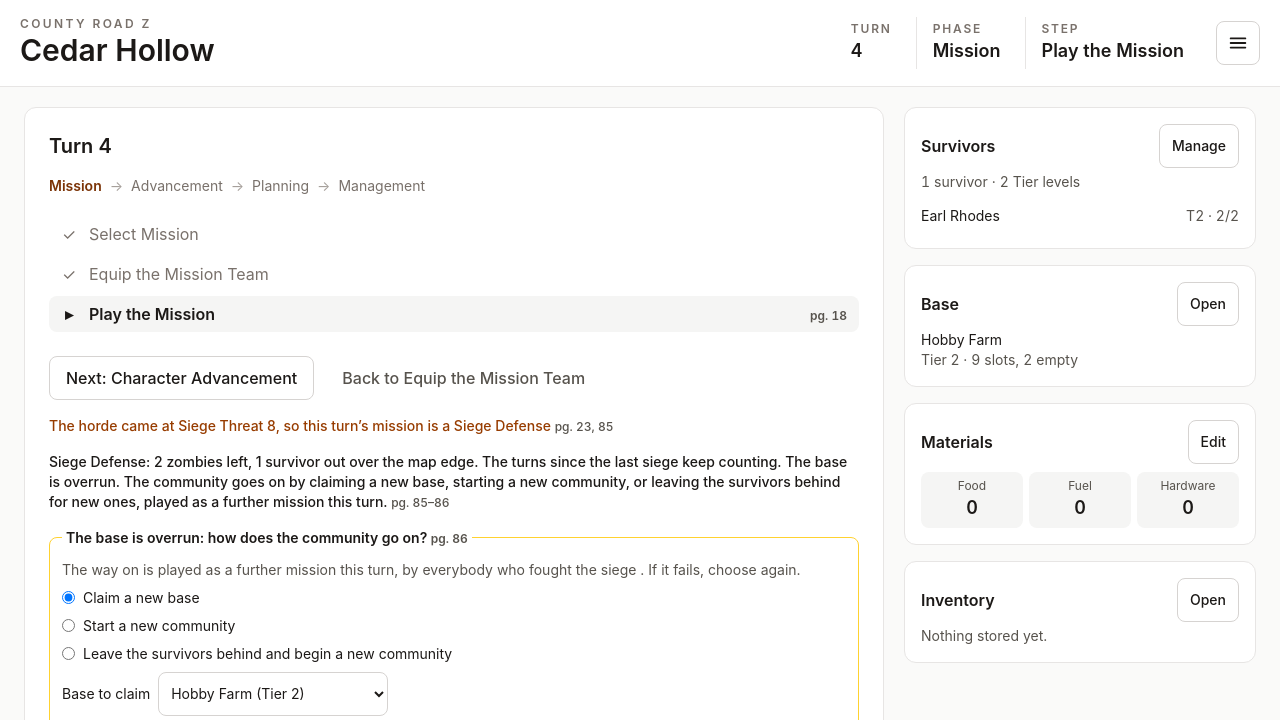
Scenario: the overrun base › asks again when the way on fails (R28)
Click the radio button labelled "Start a new community" at (68, 626), box [62,619,75,632]
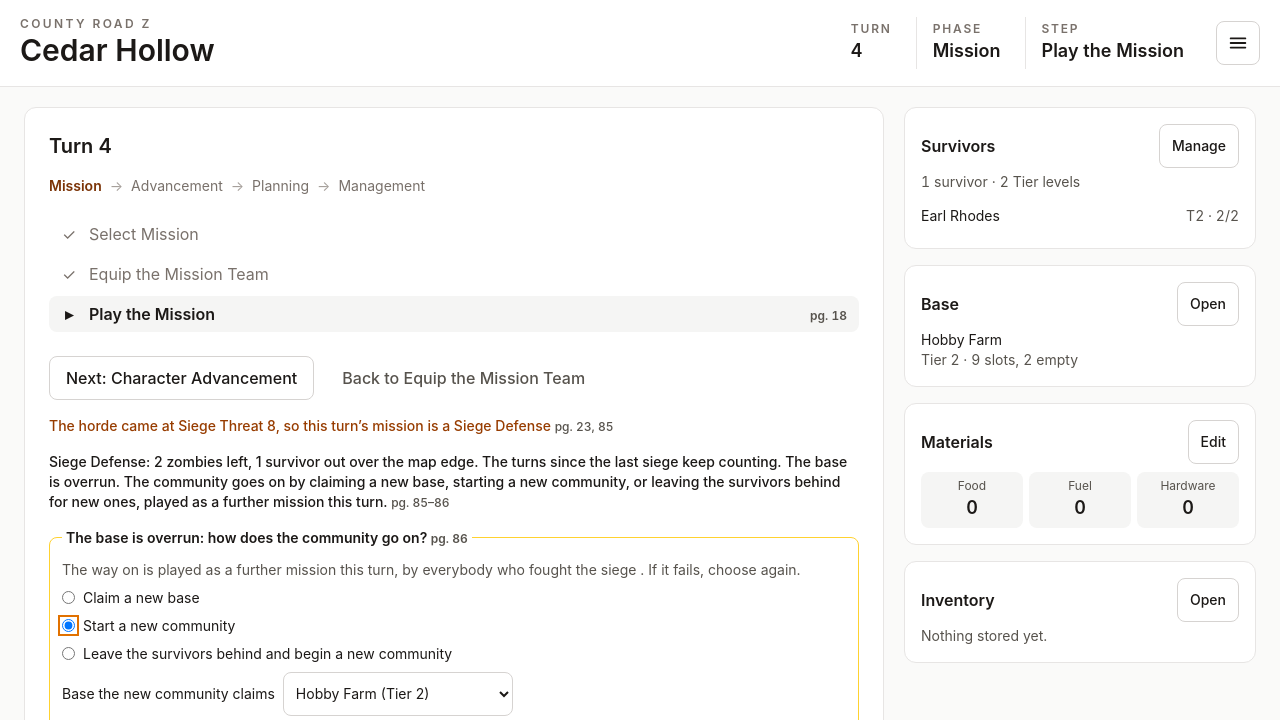
Select "Summer Camp (Tier 1)" in the dropdown labelled "Base the new community claims" at (398, 694), box [283,672,513,716]
(page scrolled)
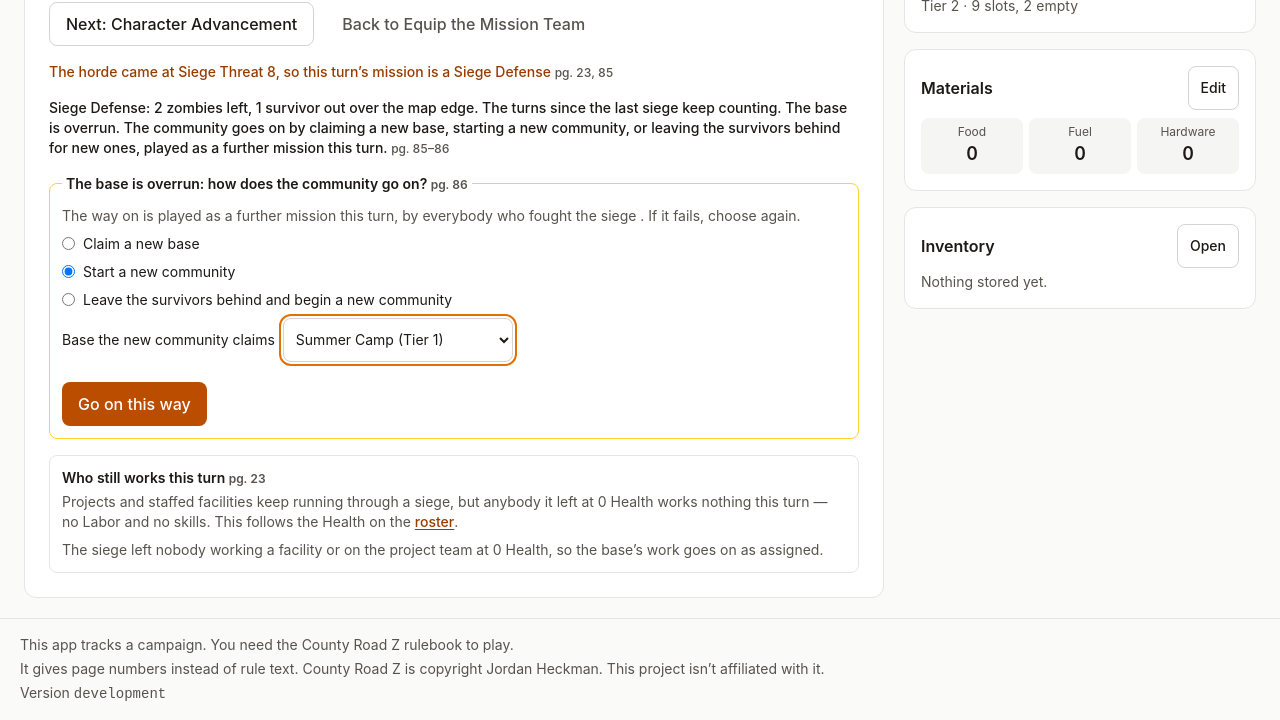
Click the button "Go on this way" at (134, 404), box [62,382,207,426]
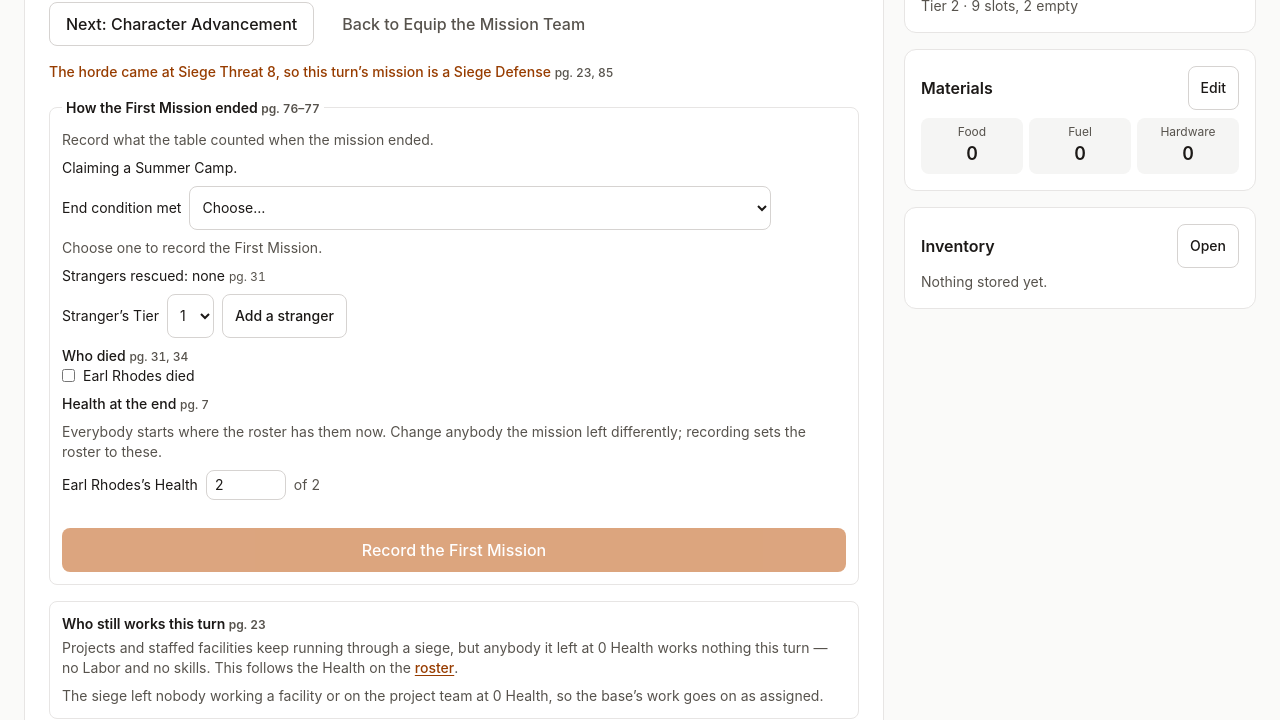
Select "4 — No survivors left in the mission area (failed)" in the dropdown labelled "End condition met" at (480, 208), box [189,186,771,230]
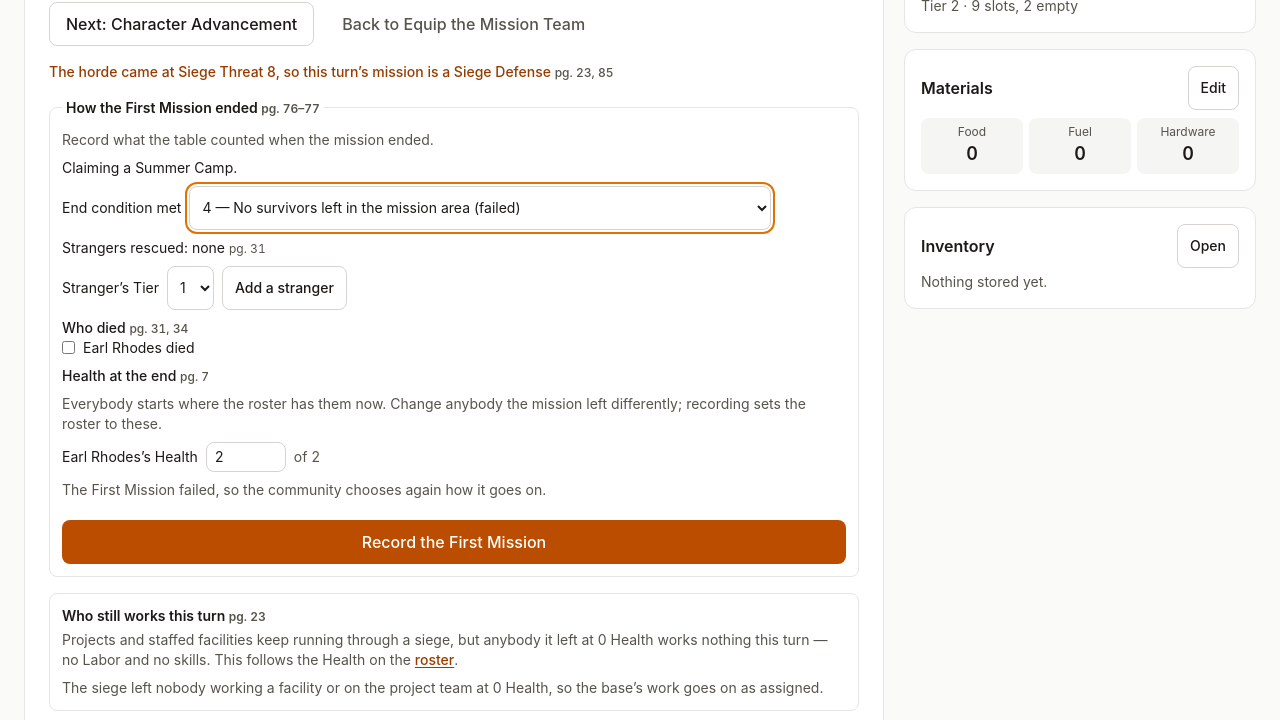
Click the button "Record the First Mission" at (454, 542), box [62,520,846,564]
(page scrolled)
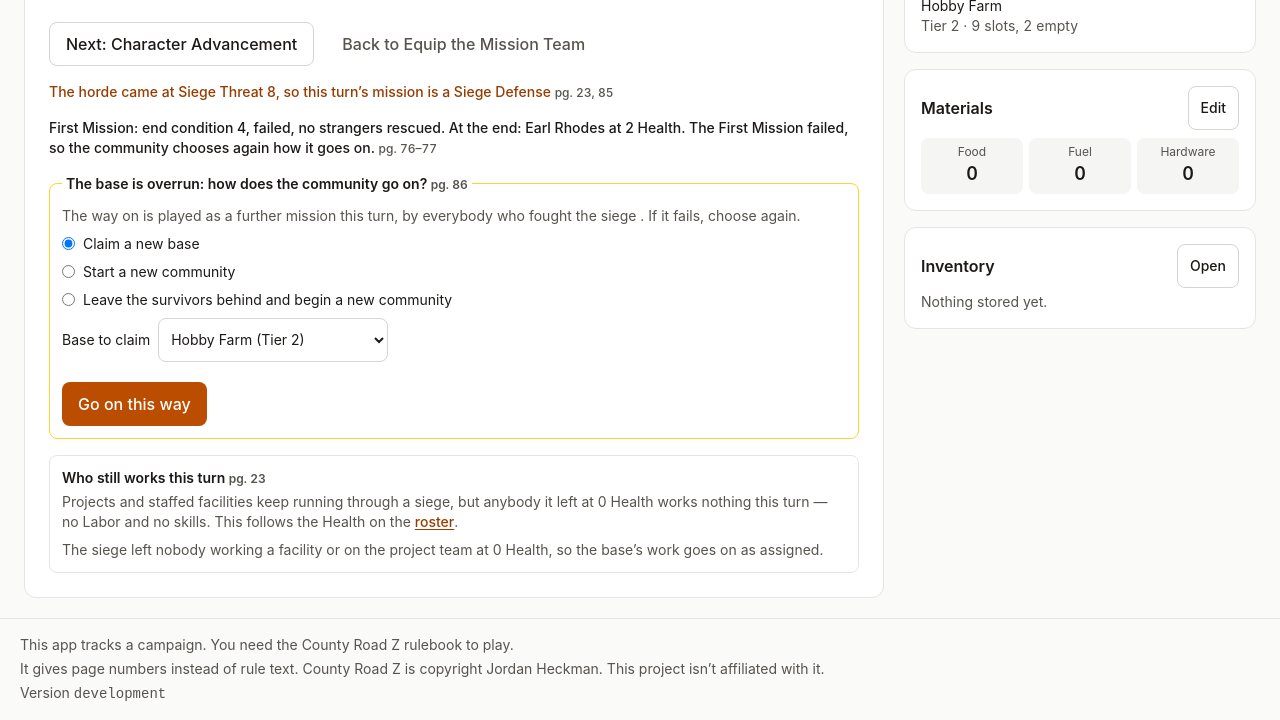
expect the element that starts with "Turn" shows "the community chooses again how it goes on": met, box [49,118,848,156]
expect the button "Go on this way" is enabled: met, box [62,382,207,426]
